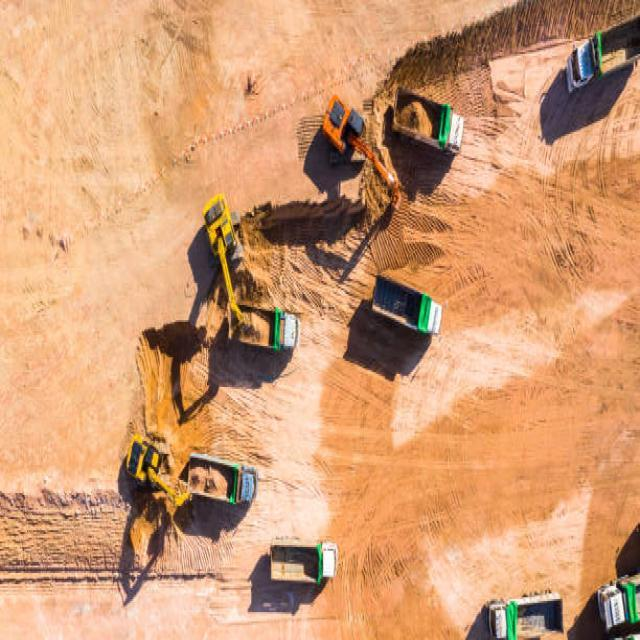excavator: (202, 193, 245, 322), (125, 433, 191, 508)
